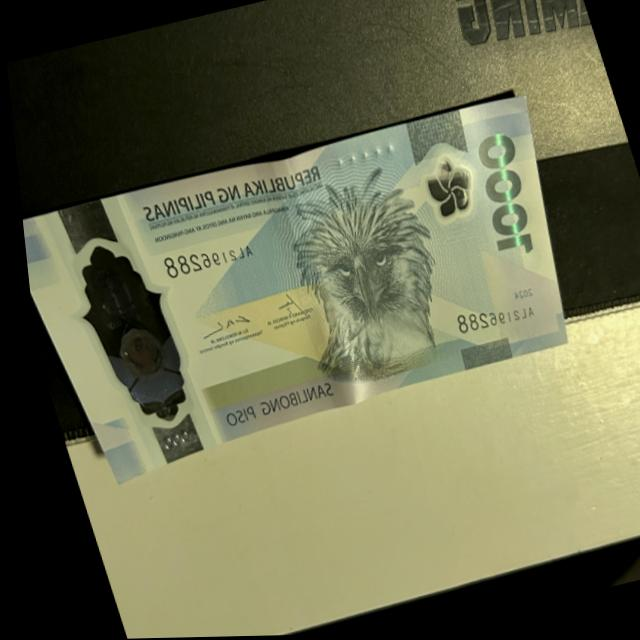clear_window: (50, 227, 201, 453)
eagle: (274, 179, 447, 383)
sampaguita: (415, 153, 478, 224)
